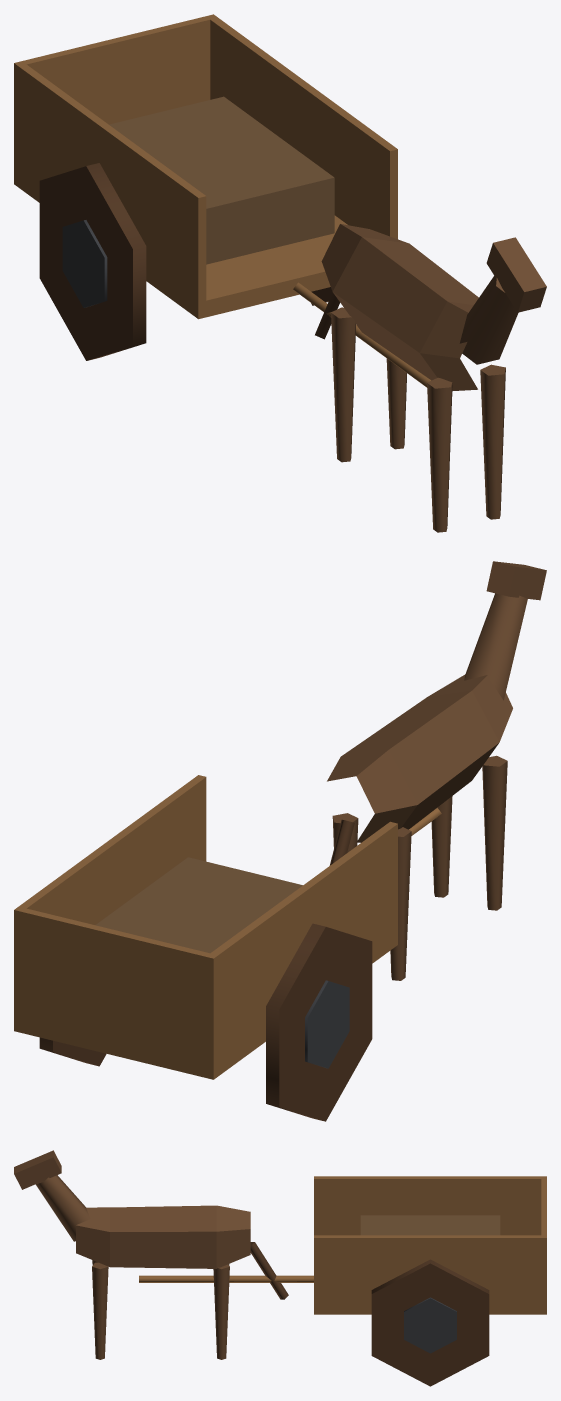
File: veh_ground_cart_a03_lod1.glb
3 views of the same model, one above another, from view 1: azimuth 30°, elevation 25°; view 2: azimuth 150°, elevation 25°; view 3: azimuth 270°, elevation 25° (orthographic). The views are drawn at different scales.
Parts seen in each view (by area): view 1: body, animal_0, wheel_0; view 2: body, animal_0, wheel_0, wheel_1; view 3: body, animal_0, wheel_1.
Boxes of the visible parts, <box> form: body: <box>14,14,431,387</box>; animal_0: <box>315,224,546,532</box>; wheel_0: <box>39,163,146,360</box>; body: <box>14,775,441,1079</box>; animal_0: <box>327,561,546,980</box>; wheel_0: <box>266,923,372,1121</box>; wheel_1: <box>39,1037,106,1066</box>; body: <box>139,1176,546,1314</box>; animal_0: <box>14,1150,288,1359</box>; wheel_1: <box>371,1259,489,1386</box>.
Bounding box in the file's own units: 1.84 × 2.23 × 5.49.
